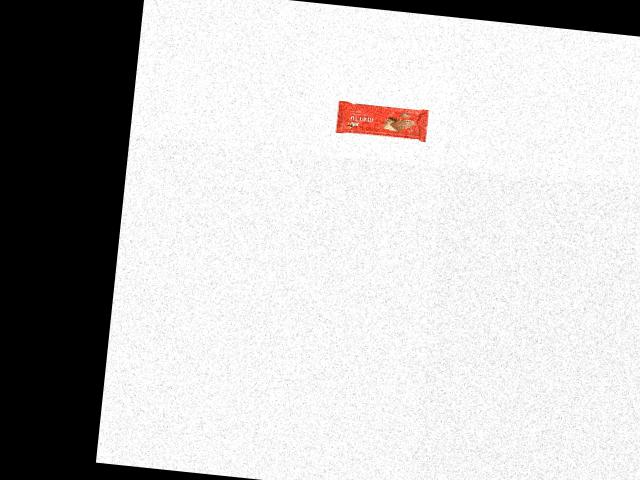chocolate: (332, 99, 428, 141)
